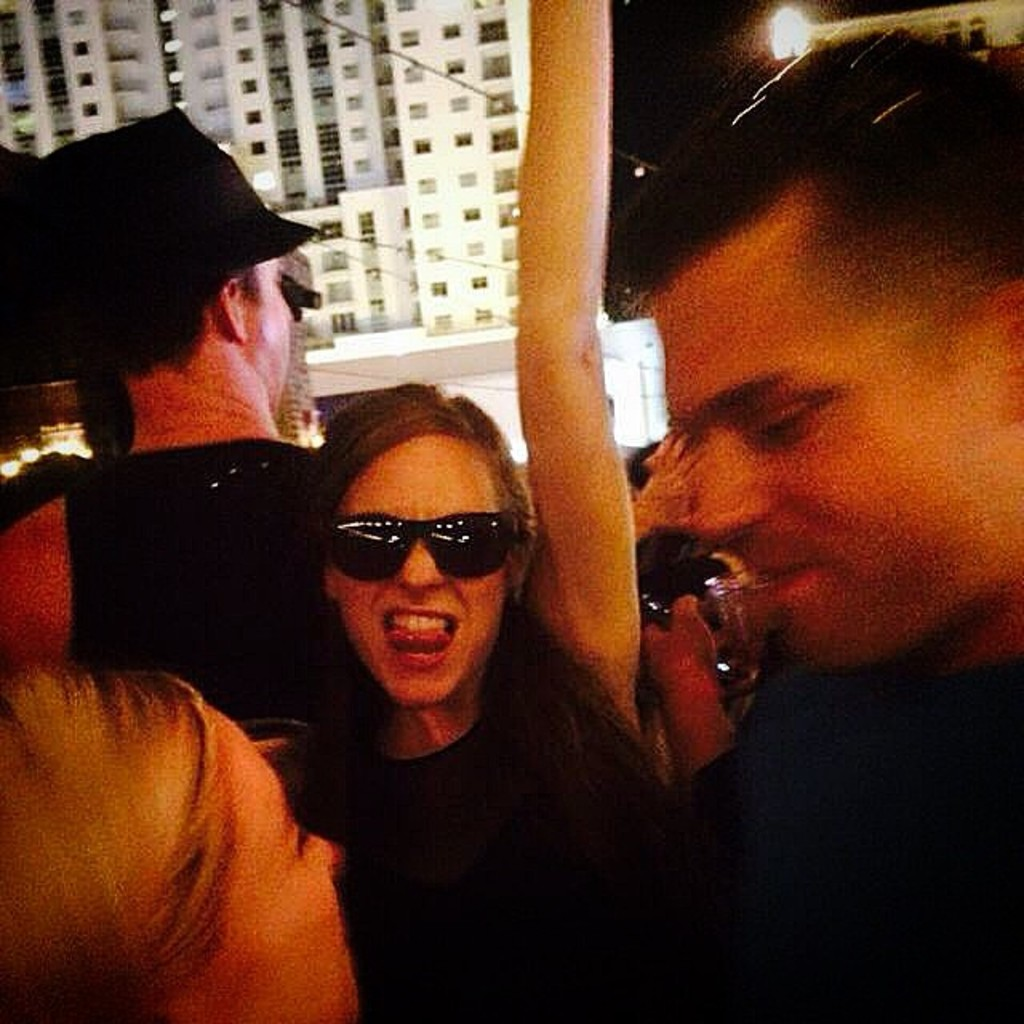Human_hand: (643, 595, 722, 698), (630, 434, 712, 528)
